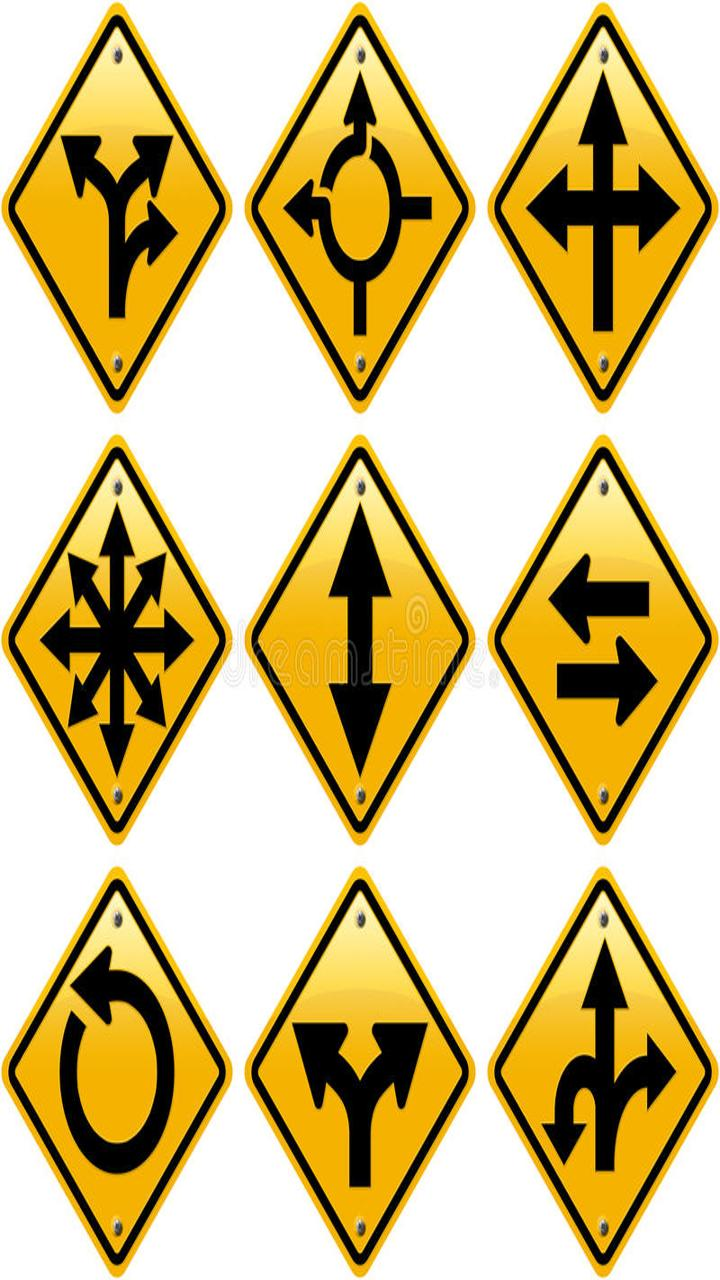Traffic sign: (245, 420, 477, 847), (486, 422, 718, 849), (484, 420, 716, 847), (247, 853, 479, 1280), (485, 853, 717, 1280), (1, 852, 232, 1279), (3, 3, 239, 409), (242, 7, 478, 413), (484, 3, 720, 409)
